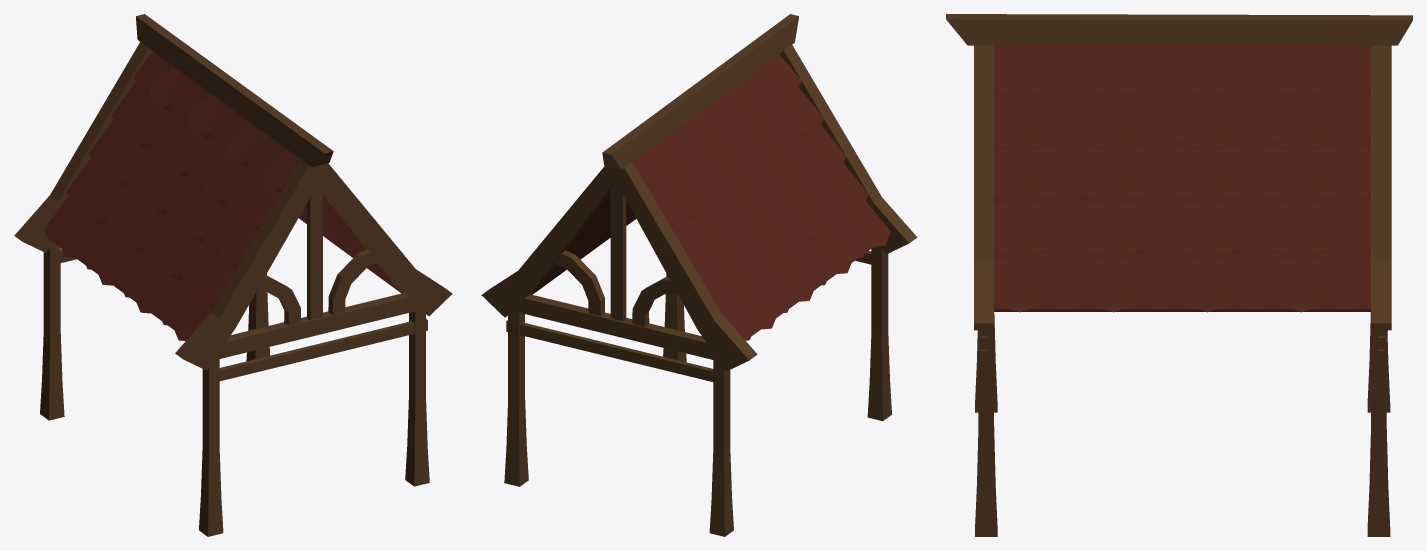
File: Gazebo.glb
The picture shows the model from 3 angles, left to right: view 1: azimuth 30°, elevation 25°; view 2: azimuth 150°, elevation 25°; view 3: azimuth 270°, elevation 25°; orthographic projection. The views are drawn at different scales.
Parts seen in each view (by area): view 1: Gazebo_Merged; view 2: Gazebo_Merged; view 3: Gazebo_Merged.
Part boxes in pixels (x1,y1,x2,y2): Gazebo_Merged: [14, 14, 452, 536]; Gazebo_Merged: [481, 14, 917, 536]; Gazebo_Merged: [946, 14, 1412, 536].
Size of the model in its own units: 1.04 by 1.35 by 1.26.
